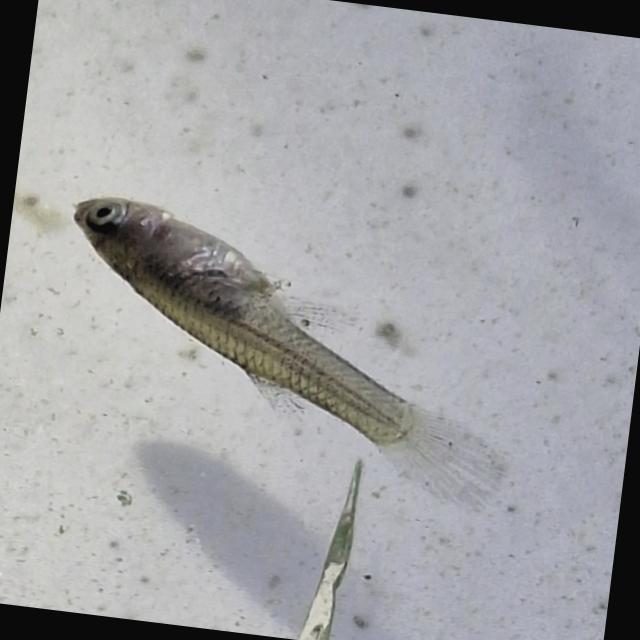Sivrisinek Baligi: (39, 188, 537, 516)
